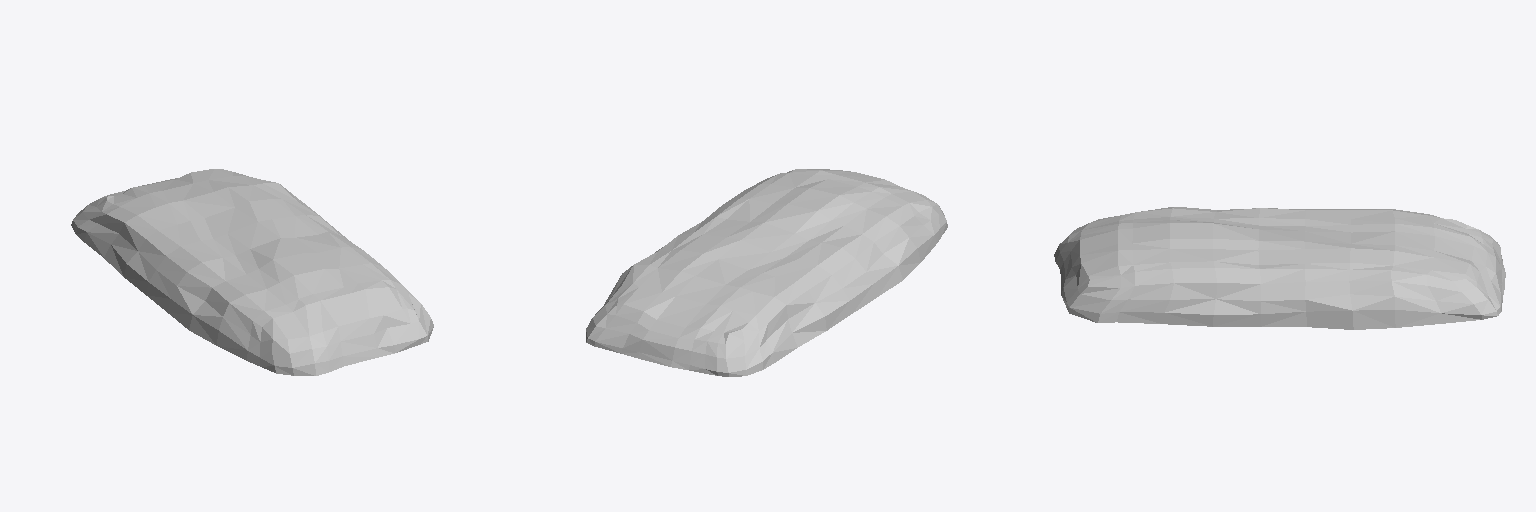
Rendered from tumba.obj.
The picture shows the model from 3 angles: view 1: azimuth 30°, elevation 25°; view 2: azimuth 150°, elevation 25°; view 3: azimuth 270°, elevation 25°; orthographic projection.
Parts seen in each view (by area): view 1: Graund_grave; view 2: Graund_grave; view 3: Graund_grave.
Part boxes in pixels (bbox=[...]): Graund_grave: bbox=[71, 169, 433, 375]; Graund_grave: bbox=[586, 169, 947, 376]; Graund_grave: bbox=[1054, 207, 1505, 329].
Bounding box in the file's own units: 1.35 × 0.3164 × 2.61.